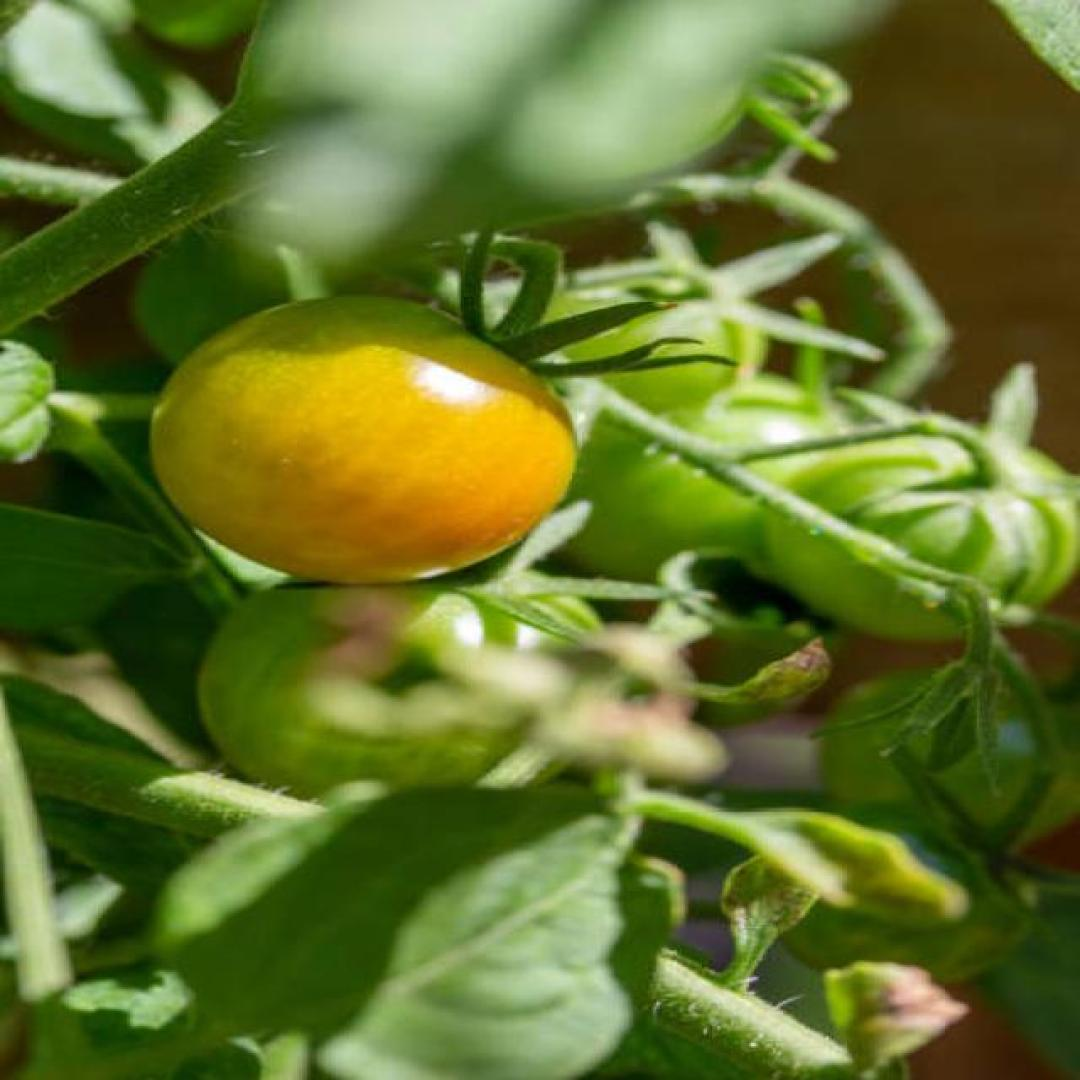setengah_matang: (144, 292, 580, 586)
